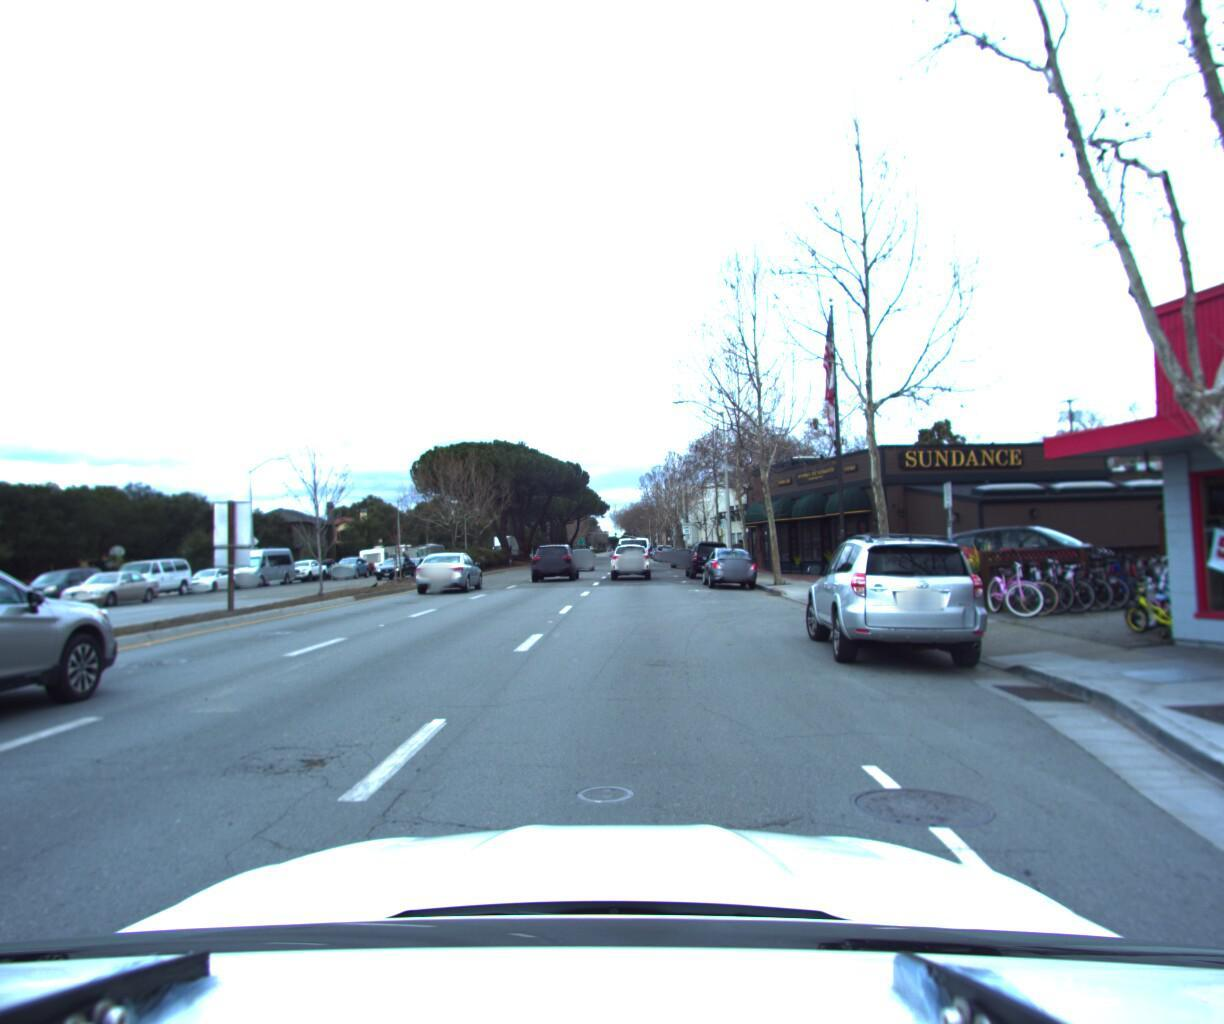bicycle: (1095, 573, 1189, 639), (1117, 571, 1212, 636), (1140, 570, 1224, 634), (1008, 540, 1080, 611), (992, 541, 1061, 612), (970, 542, 1036, 613), (1097, 547, 1179, 603), (1081, 548, 1162, 604), (1116, 546, 1197, 602), (1061, 549, 1140, 606), (1044, 550, 1118, 608), (1026, 554, 1098, 609)
car: (0, 534, 152, 820), (795, 520, 1002, 675), (922, 514, 1123, 593), (9, 568, 125, 618), (57, 570, 172, 615), (101, 557, 203, 604), (224, 545, 304, 593), (411, 552, 489, 599), (698, 543, 760, 589), (528, 542, 582, 584), (681, 537, 733, 579), (181, 568, 245, 598), (607, 541, 652, 582), (617, 534, 653, 573), (283, 559, 333, 586), (376, 554, 423, 582), (330, 557, 374, 580), (570, 548, 600, 573), (669, 546, 699, 569)
other_vehicle: (360, 544, 411, 577)
